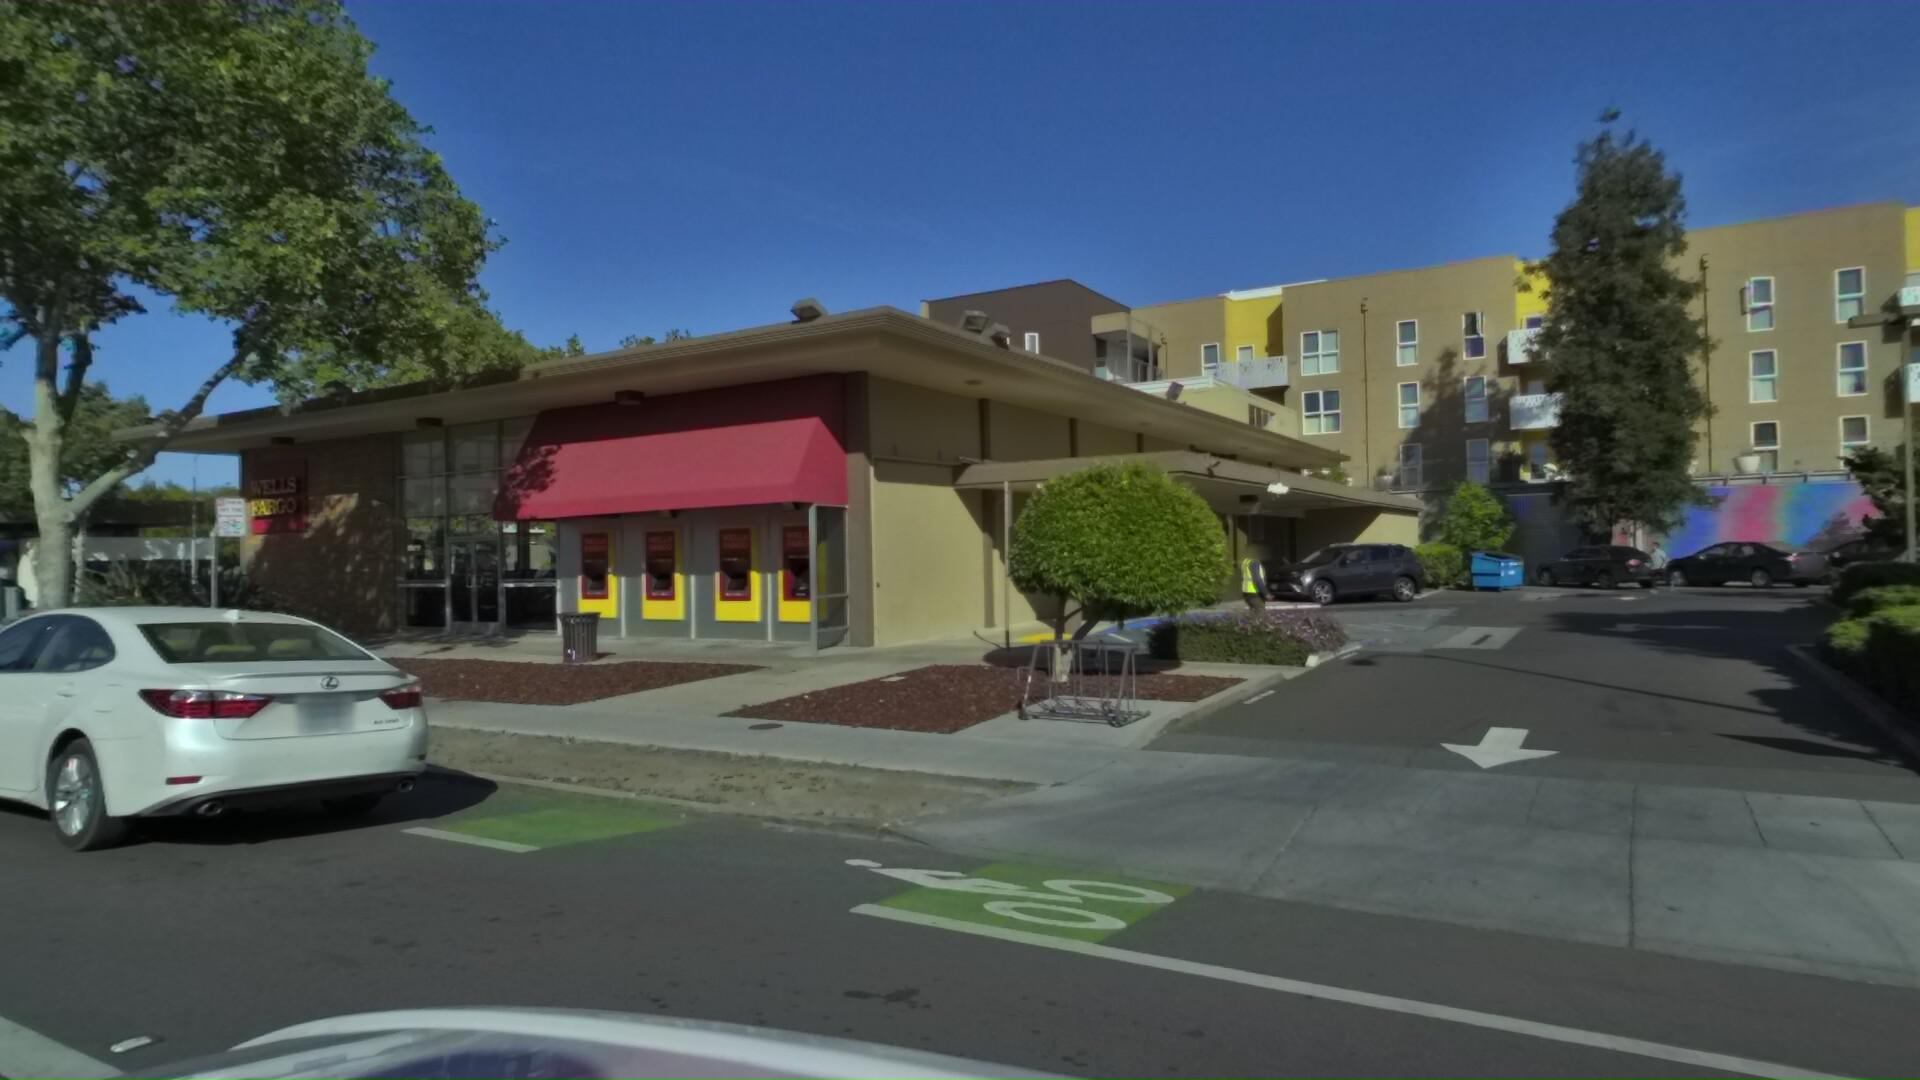car: (0, 578, 436, 880), (1247, 535, 1425, 605), (0, 567, 26, 616)
